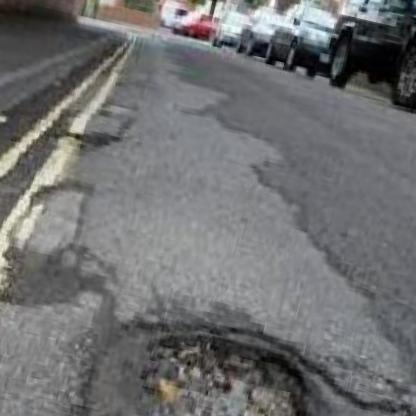pothole: (111, 307, 332, 416)
